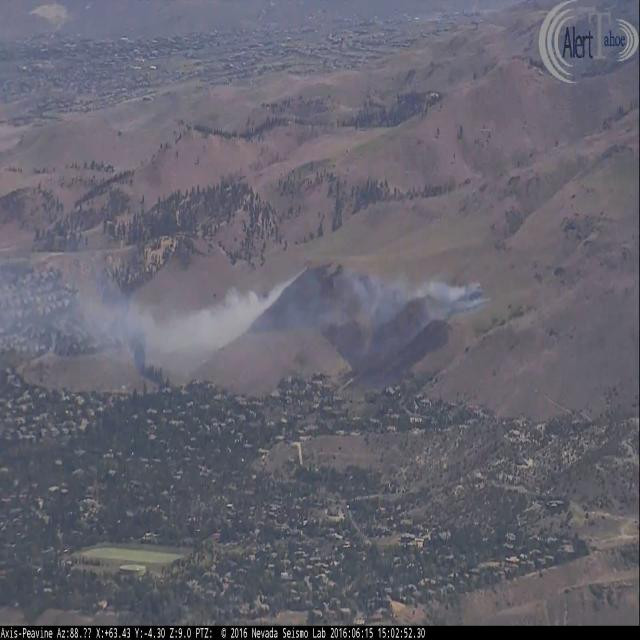smoke: (132, 272, 489, 372)
